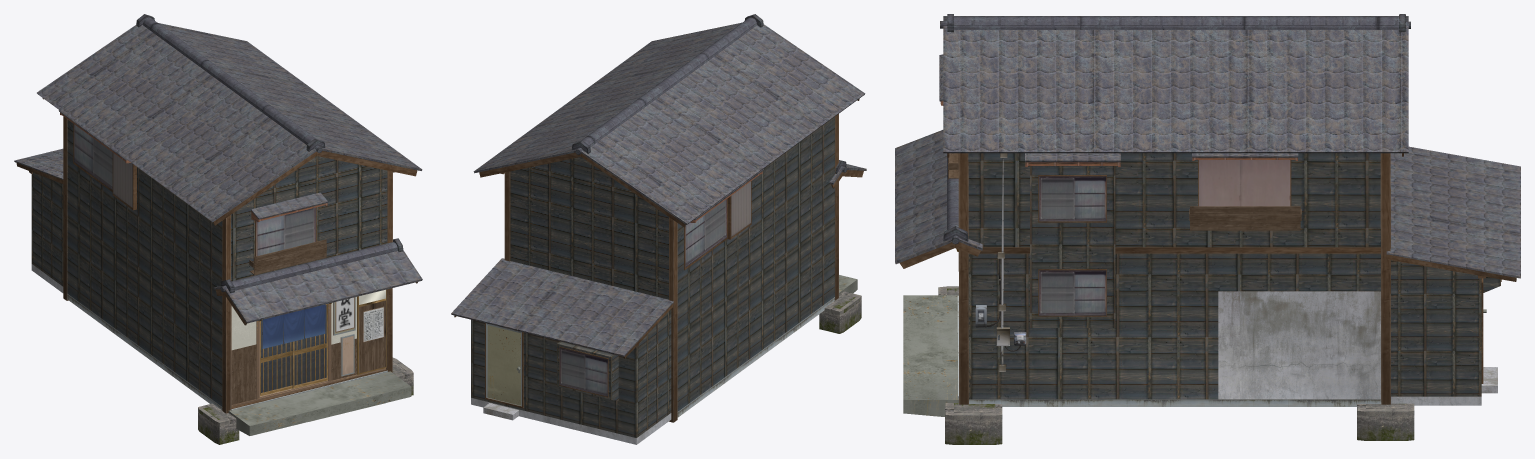
The model's file is house_shop_01k_1b.fbx.
3 renders of one model, left to right at view 1: azimuth 30°, elevation 25°; view 2: azimuth 150°, elevation 25°; view 3: azimuth 270°, elevation 25°, orthographic. The views are drawn at different scales.
Visible parts, largest first — view 1: house_shop_01k_1b; view 2: house_shop_01k_1b; view 3: house_shop_01k_1b.
Boxes of the visible parts, left/top/right/bottom form: house_shop_01k_1b: left=14, top=14, right=422, bottom=444; house_shop_01k_1b: left=451, top=14, right=866, bottom=444; house_shop_01k_1b: left=895, top=14, right=1520, bottom=444.
Bounding box in the file's own units: 708 × 1374 × 891.
10 materials, 10 textured.
